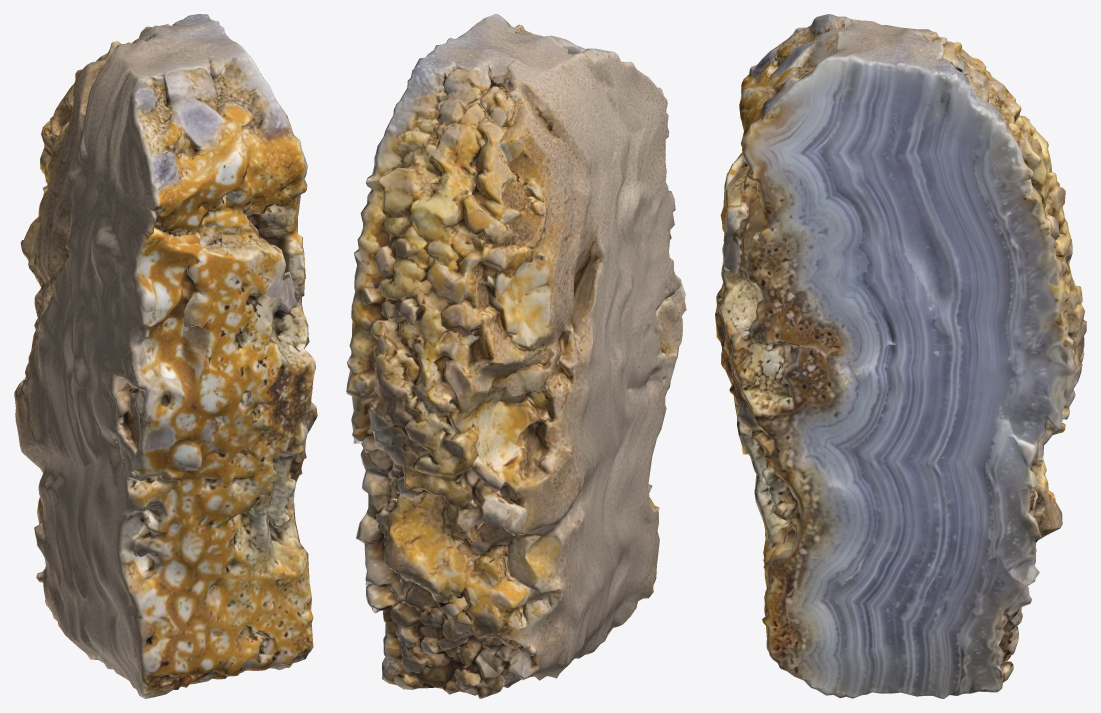
File: calm.glb
3 views of the same model, side by side, from view 1: azimuth 30°, elevation 25°; view 2: azimuth 150°, elevation 25°; view 3: azimuth 270°, elevation 25° (orthographic).
Parts seen in each view (by area): view 1: tripo_node_fb9ff4db-c693-4e27-9ba3-e875b223def6; view 2: tripo_node_fb9ff4db-c693-4e27-9ba3-e875b223def6; view 3: tripo_node_fb9ff4db-c693-4e27-9ba3-e875b223def6.
Boxes of the visible parts, x1,y1,x2,y2 form: tripo_node_fb9ff4db-c693-4e27-9ba3-e875b223def6: [14, 14, 317, 698]; tripo_node_fb9ff4db-c693-4e27-9ba3-e875b223def6: [346, 14, 686, 698]; tripo_node_fb9ff4db-c693-4e27-9ba3-e875b223def6: [715, 14, 1086, 698].
Bounding box in the file's own units: 0.3087 × 0.9824 × 0.5236.
1 material, 1 textured.
